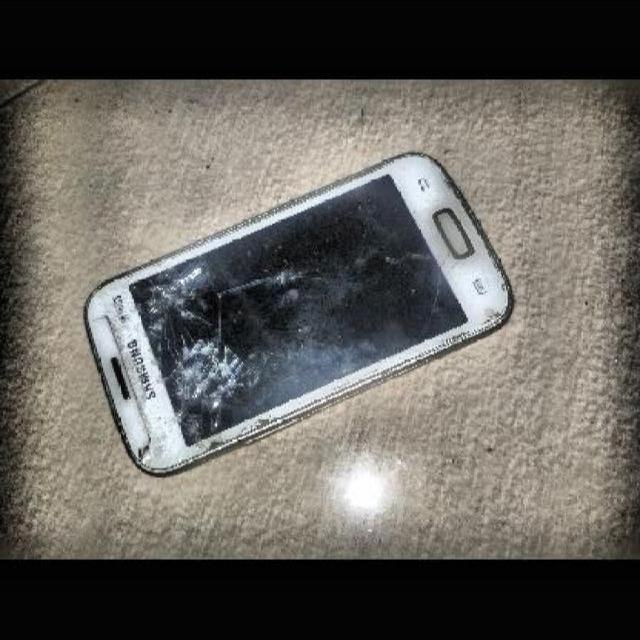Crack: (101, 276, 274, 464)
